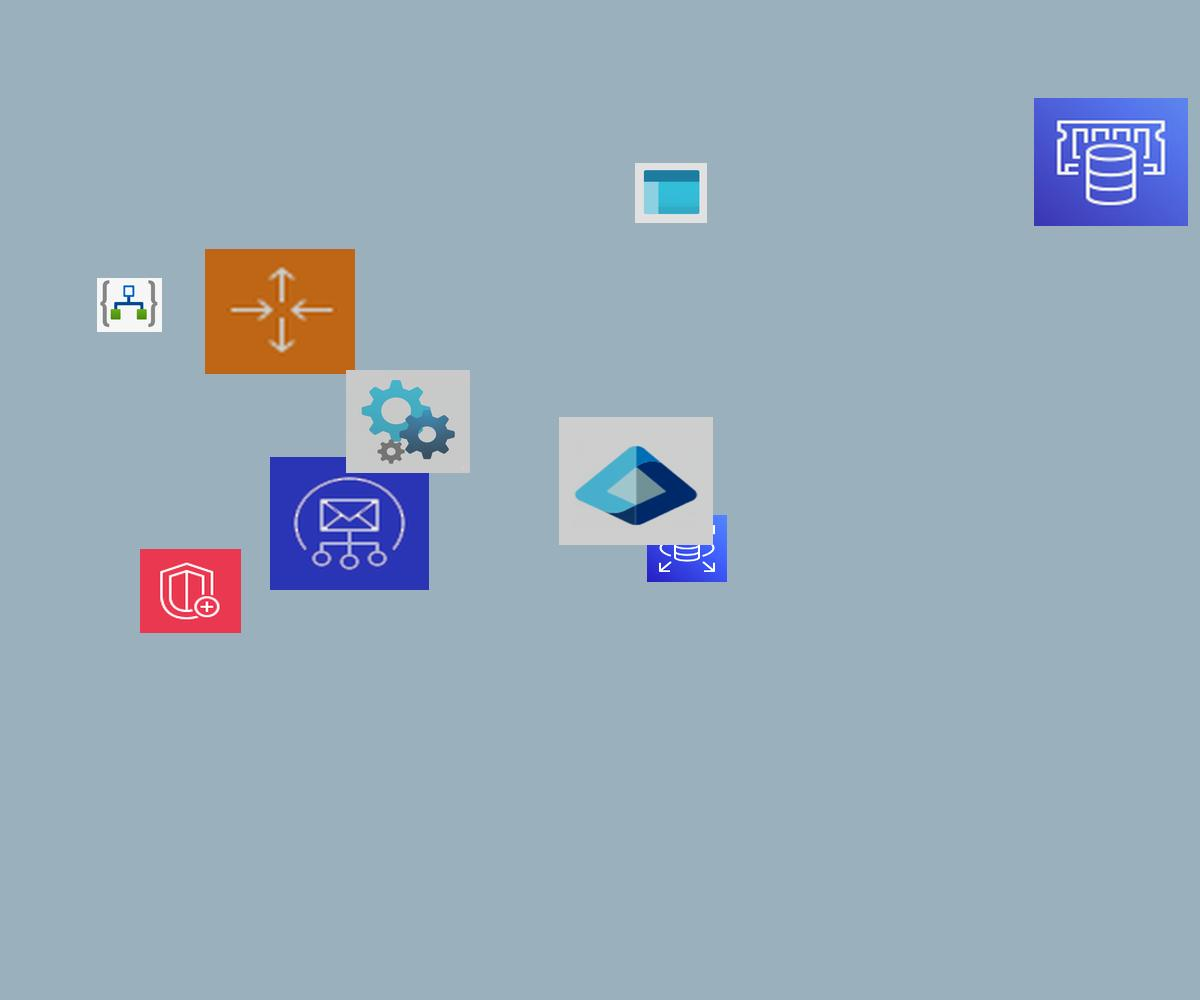AWS-ElastiCache: (1034, 98, 1188, 226)
AWS-RDS: (647, 515, 727, 582)
AWS-Scaling-group: (205, 249, 355, 374)
AWS-Shield: (140, 549, 241, 633)
AWS-Simple-Email-Service: (270, 457, 429, 590)
Azure_api: (346, 370, 470, 473)
Azure_integration-204-Logic-Apps: (97, 278, 162, 332)
Azure_management-portal: (635, 163, 707, 223)
Azure_microsoft_entra: (559, 417, 713, 545)
